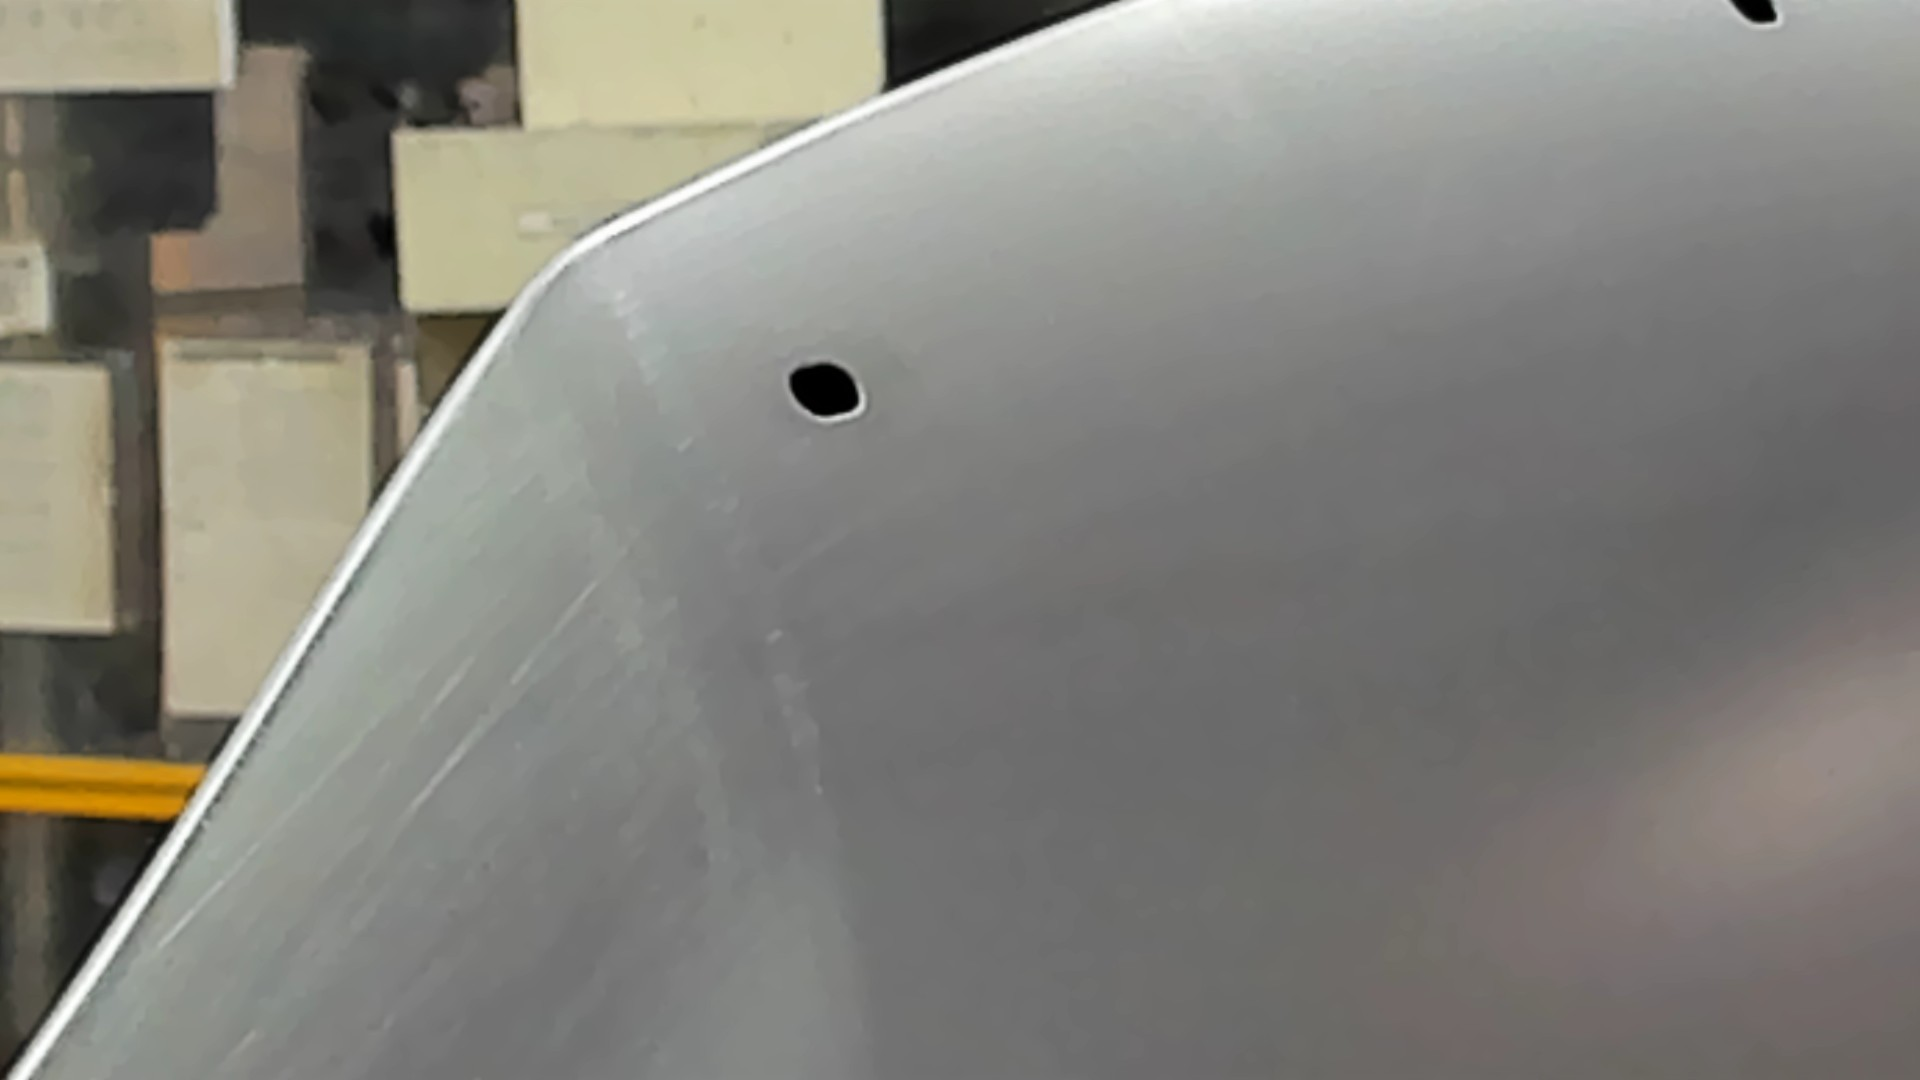amorfo: (782, 353, 870, 427), (1720, 1, 1785, 32)
capo: (914, 107, 1920, 1080)
